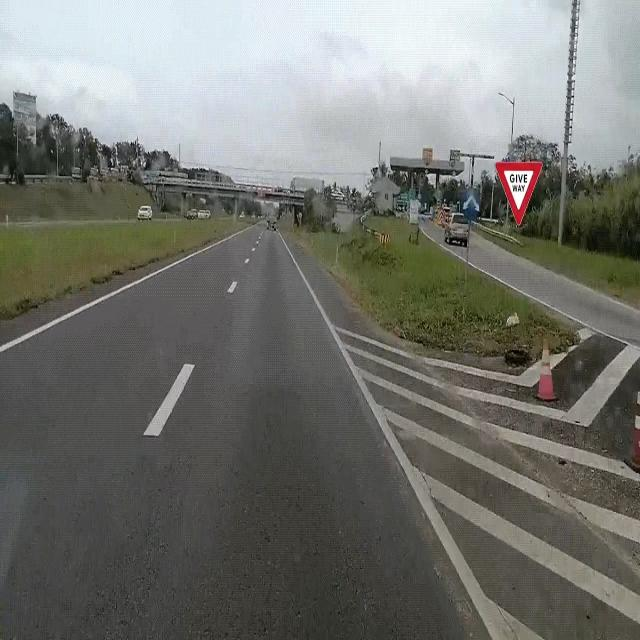Ceder-le-Passage: (495, 156, 545, 234)
